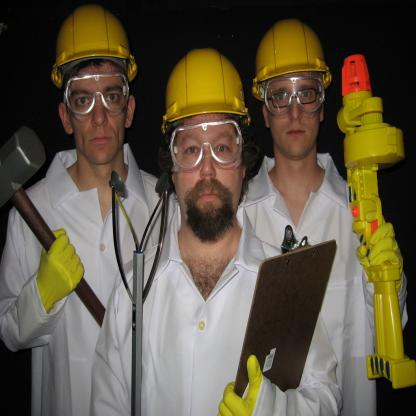Helmet: (49, 10, 134, 145), (163, 46, 248, 128), (252, 18, 335, 98)
